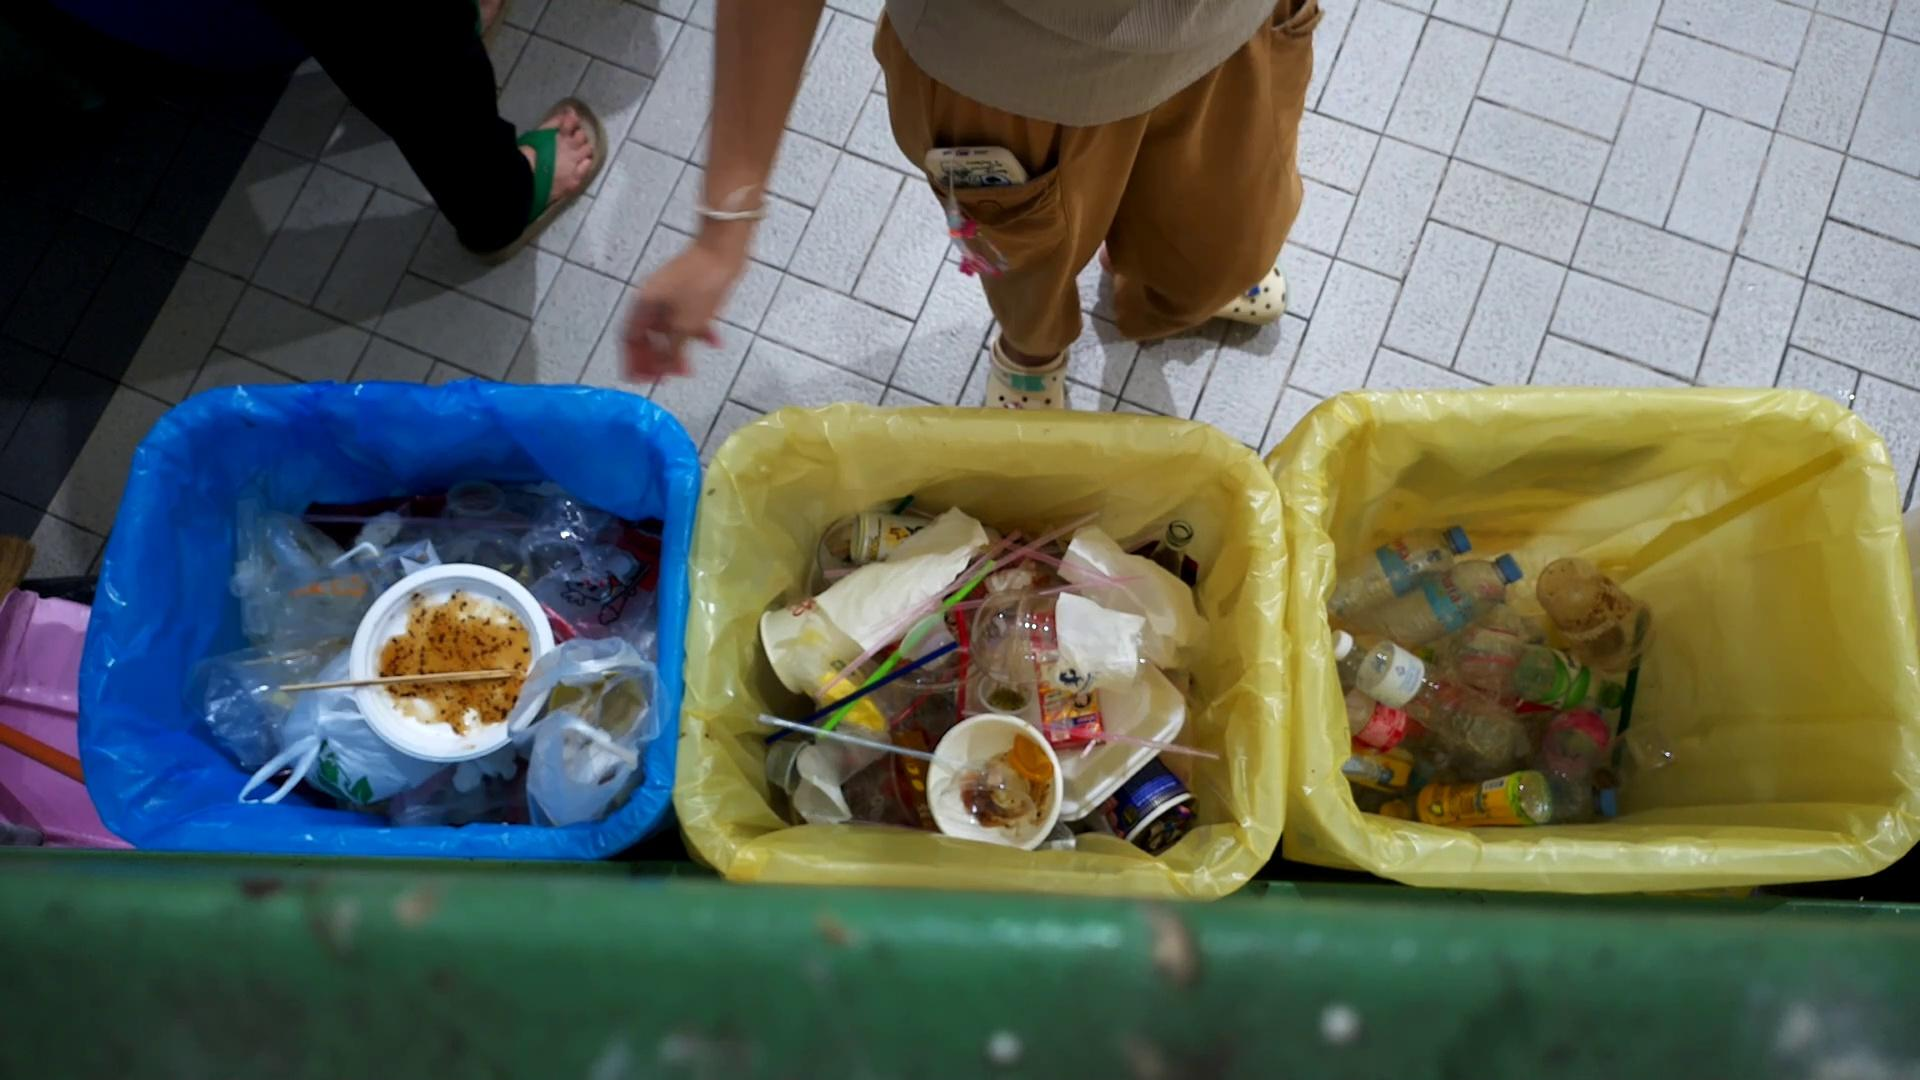filled plastic bag: (240, 650, 454, 810), (513, 634, 661, 827)
food container: (345, 563, 555, 761), (928, 713, 1062, 851)
plastic cup: (971, 588, 1151, 692), (935, 756, 1033, 832)
sticks: (276, 663, 516, 696)
straw: (816, 521, 1015, 709), (814, 559, 994, 742), (758, 640, 960, 748), (849, 554, 1137, 607), (1017, 715, 1226, 756), (760, 715, 930, 757), (942, 575, 1149, 609)
tissue paper: (1050, 592, 1135, 687)
